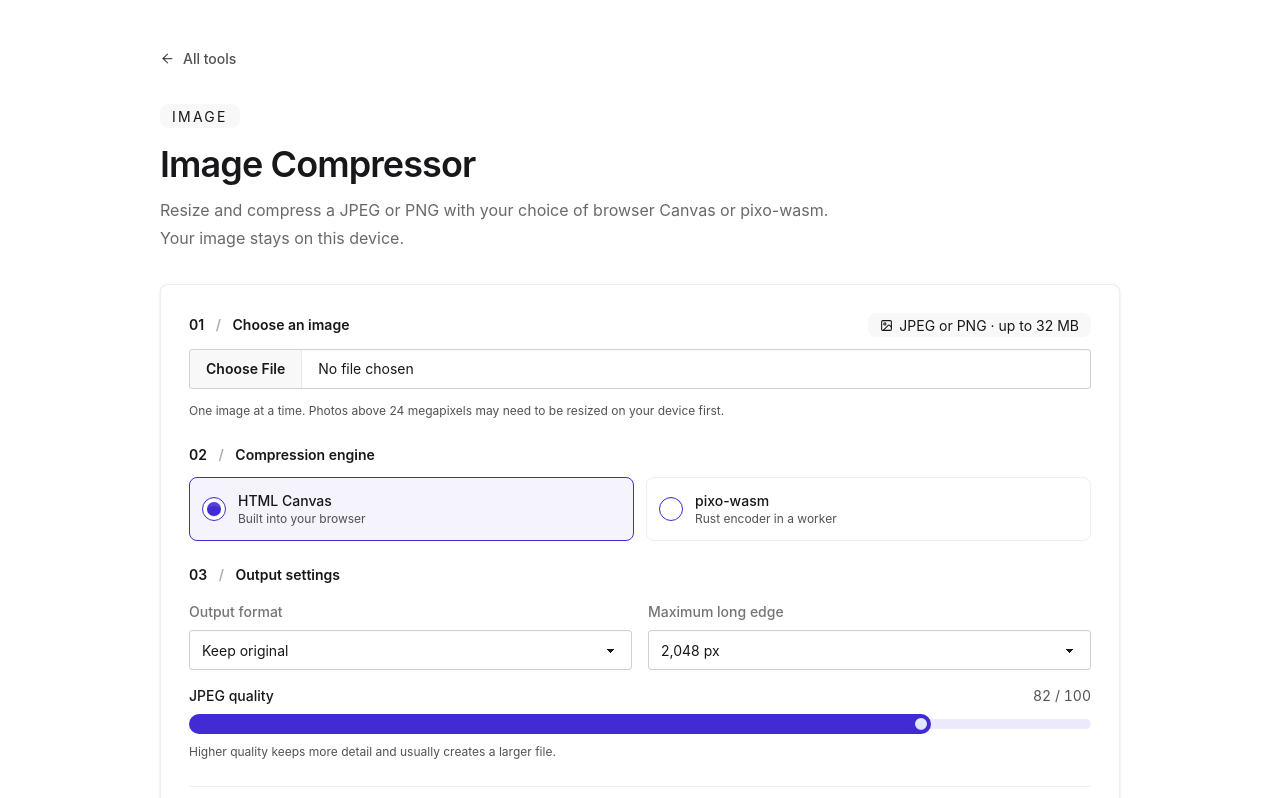
Test case: shows the pixo PNG lossy option only for WASM PNG output
Step 1. Click the radio button labelled "pixo-wasm Rust encoder in a worker" → click(671, 509), box [659, 497, 683, 521]
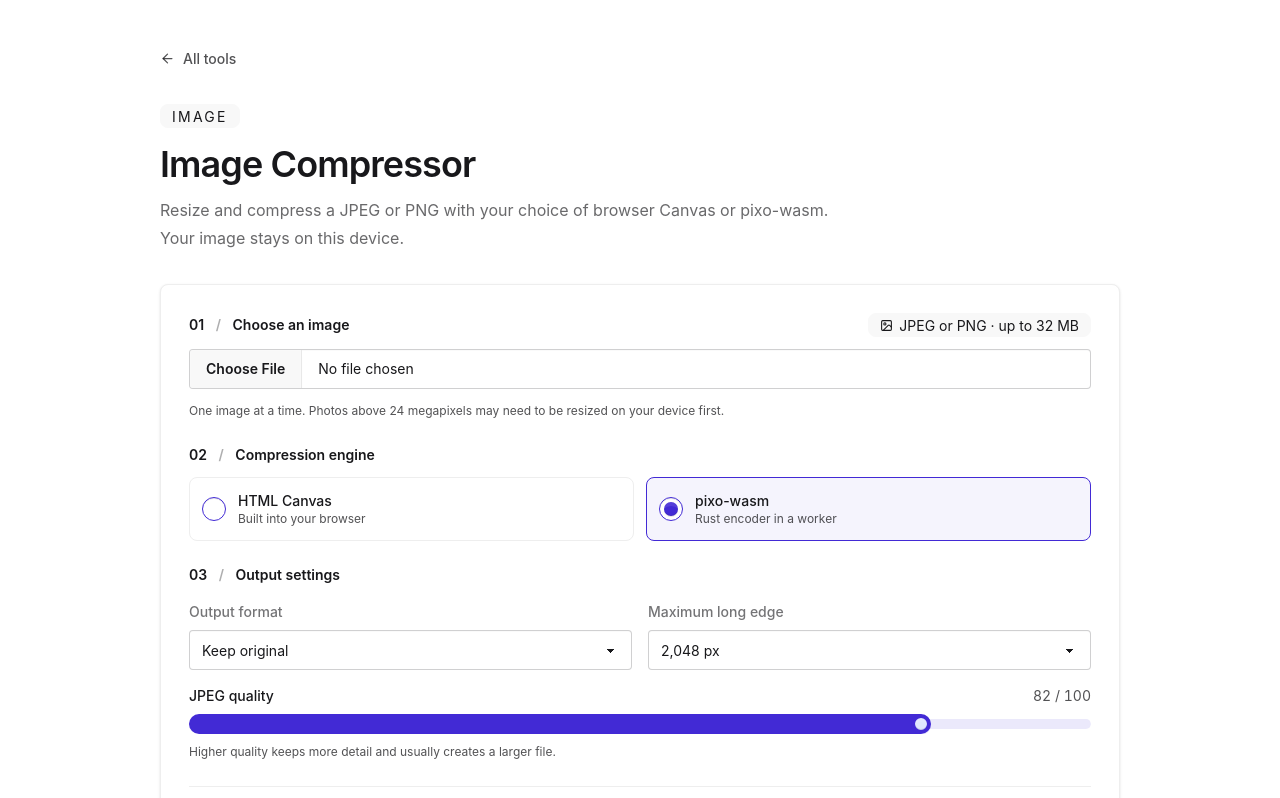
Step 2. Select "PNG" in the dropdown labelled "Output format" → (410, 650), box [189, 630, 632, 670]
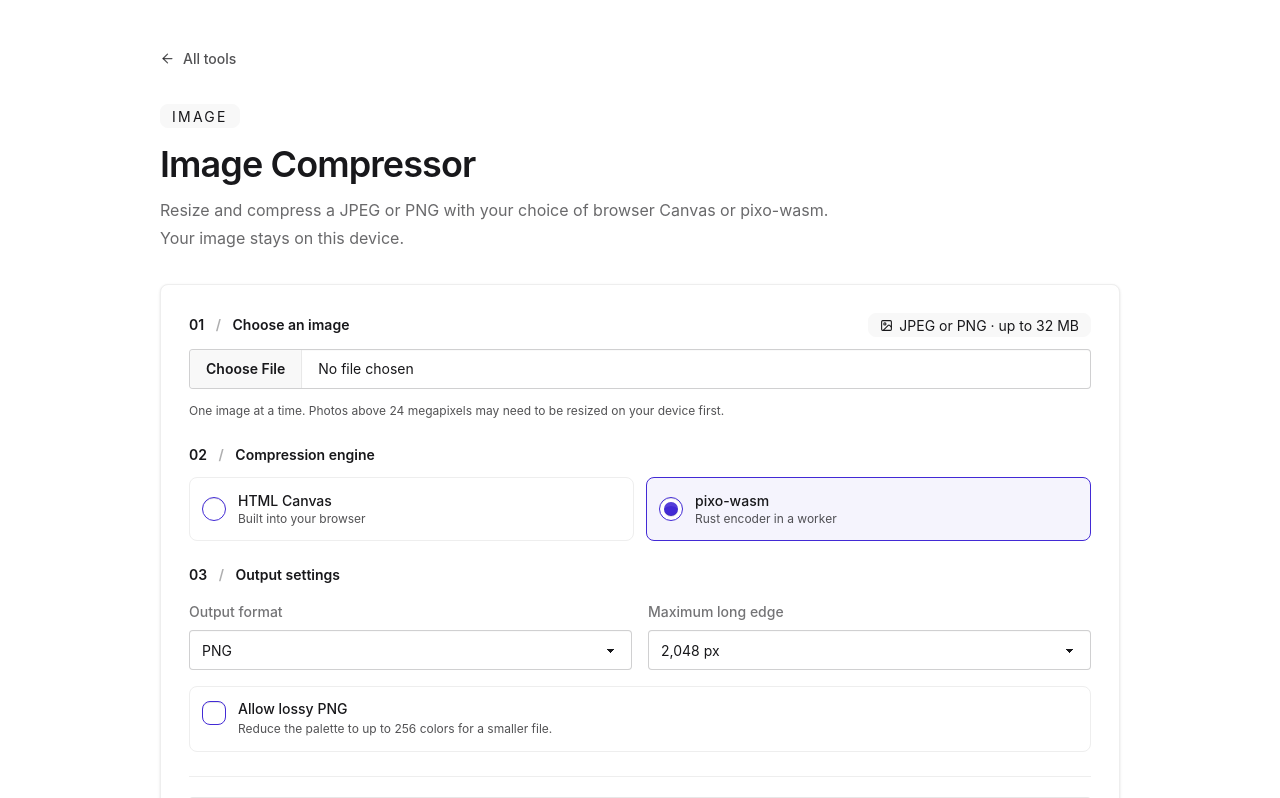
Now the checkbox labelled "Allow lossy PNG" is shown, box [202, 701, 226, 725]
Step 3. Click the radio button labelled "HTML Canvas Built into your browser" → click(214, 509), box [202, 497, 226, 521]
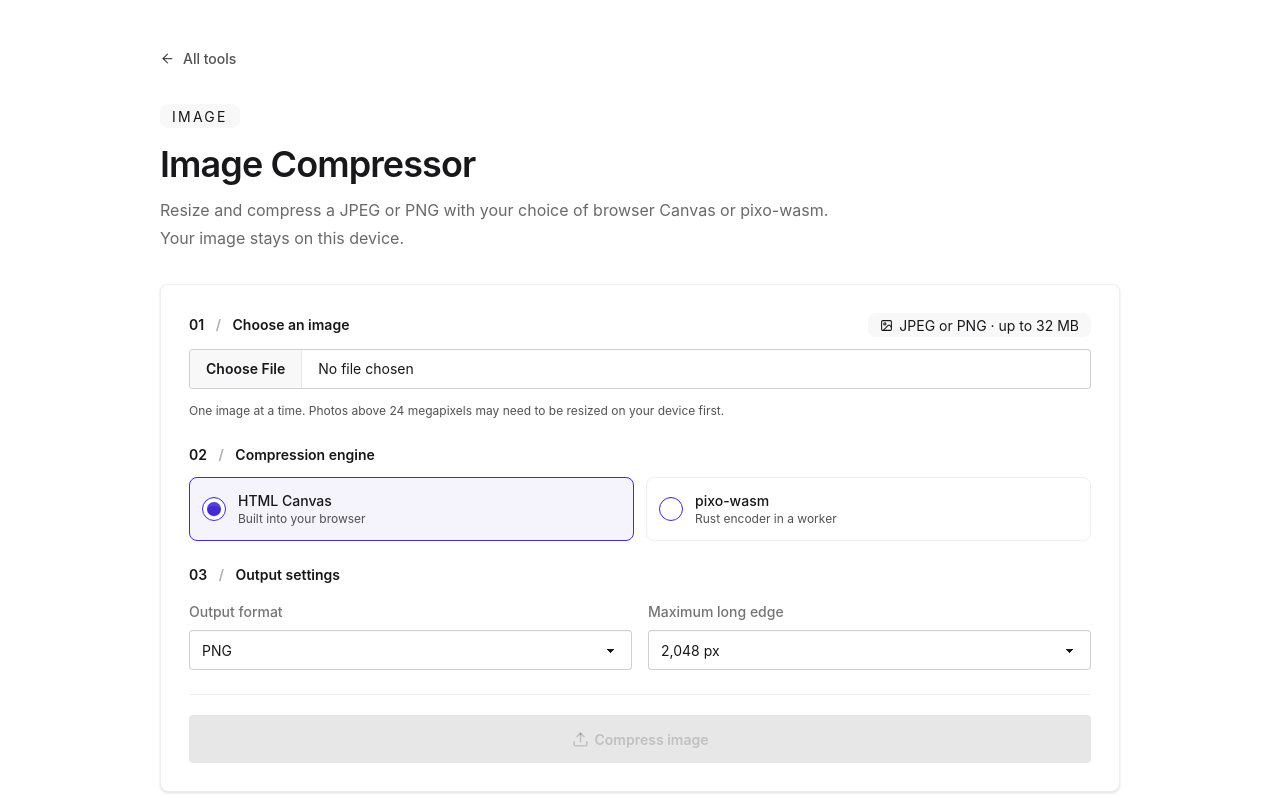
Now the text labelled "Allow lossy PNG" is gone
